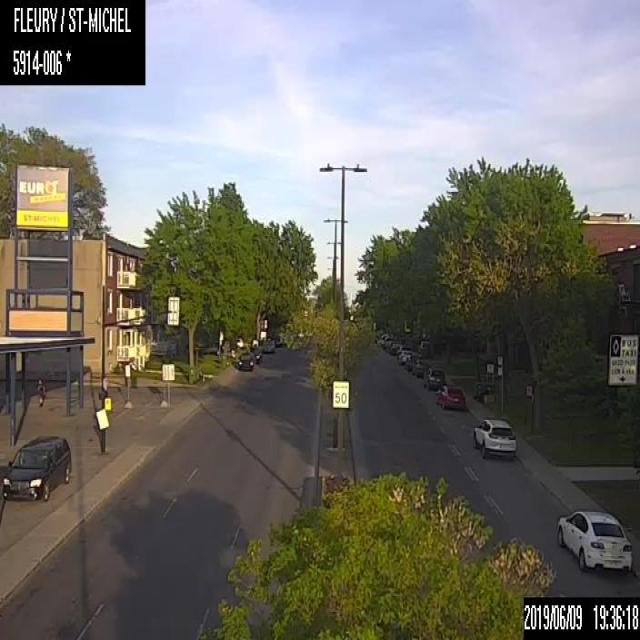pedestrian: (34, 376, 44, 408)
vehicle: (554, 507, 634, 573), (2, 432, 72, 503), (471, 412, 517, 457), (436, 382, 466, 412), (421, 366, 446, 390), (235, 346, 255, 372), (404, 352, 421, 372), (260, 334, 276, 355), (248, 343, 262, 366), (412, 359, 427, 378), (398, 348, 412, 364)
